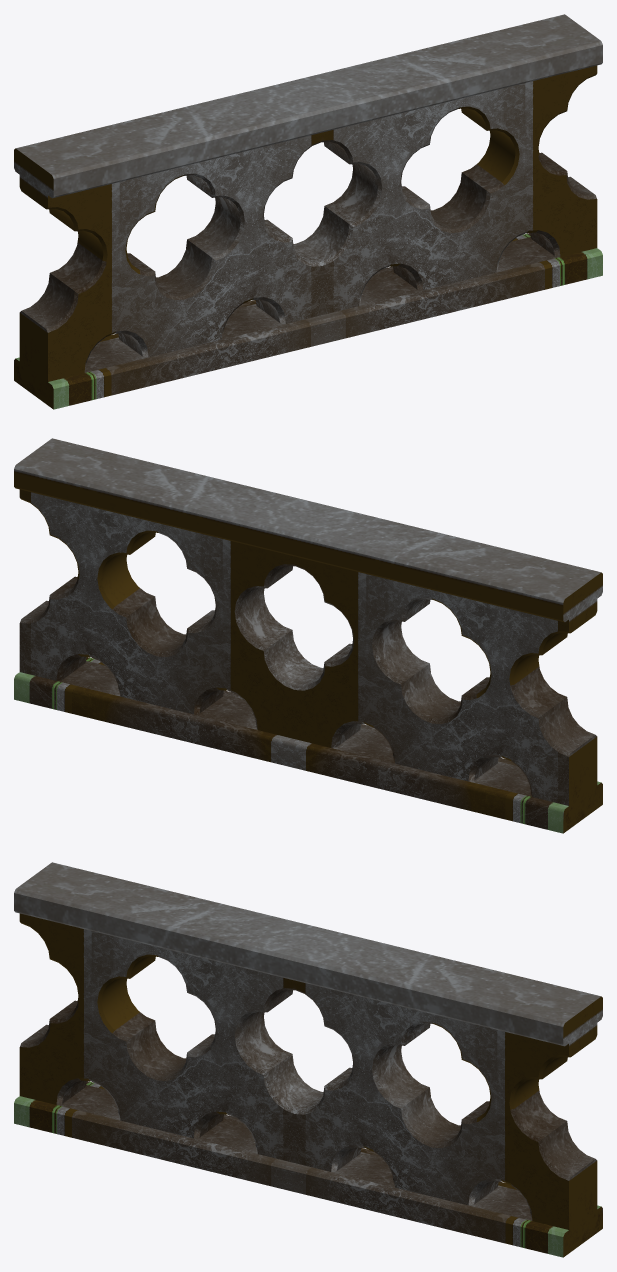
File: Border_Trim.fbx
3 views of the same model, one above another, from view 1: azimuth 30°, elevation 25°; view 2: azimuth 150°, elevation 25°; view 3: azimuth 330°, elevation 25° (orthographic).
Parts seen in each view (by area): view 1: Border1; view 2: Border1; view 3: Border1.
Part boxes in pixels (box(x1,y1,x2,y2)): Border1: box(14, 14, 602, 409); Border1: box(14, 438, 602, 833); Border1: box(14, 862, 602, 1257).
Bounding box in the file's own units: 400 × 162 × 50.
